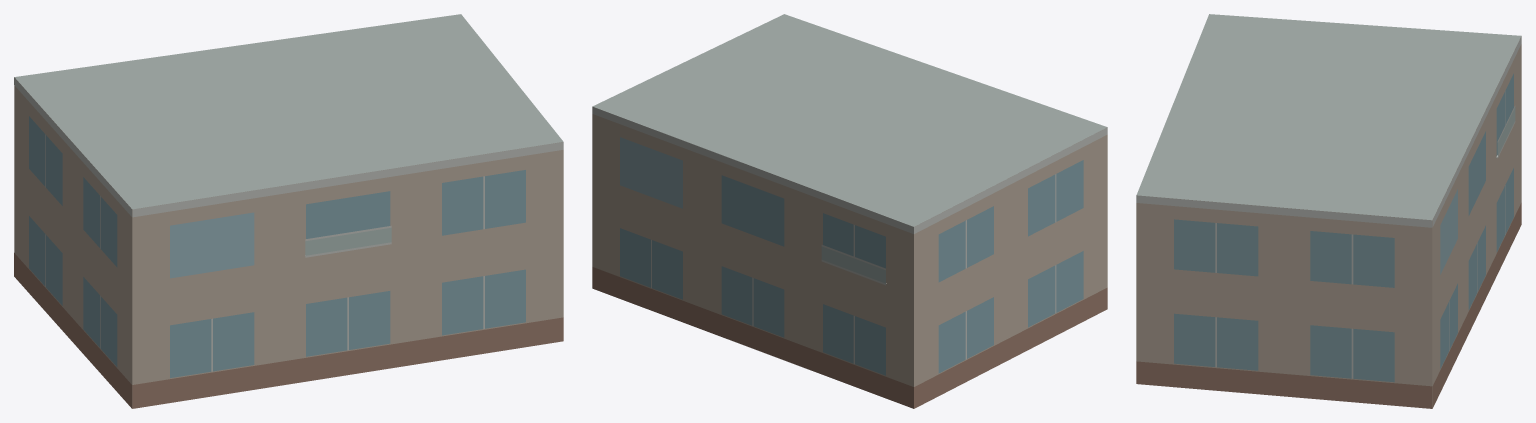
Rendered from survey-upis-32999527.glb.
3 renders of one model, left to right at view 1: azimuth 30°, elevation 25°; view 2: azimuth 150°, elevation 25°; view 3: azimuth 270°, elevation 25°, orthographic. The views are drawn at different scales.
Parts seen in each view (by area): view 1: survey-upis-32999527.tmp; view 2: survey-upis-32999527.tmp; view 3: survey-upis-32999527.tmp.
Boxes of the visible parts, bbox=[...] form: survey-upis-32999527.tmp: bbox=[14, 14, 563, 408]; survey-upis-32999527.tmp: bbox=[592, 14, 1107, 408]; survey-upis-32999527.tmp: bbox=[1136, 14, 1521, 408].
Size of the model in its own units: 14.32 by 6.1 by 11.3.
